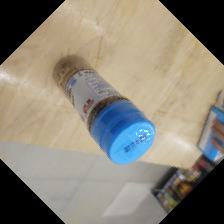TayNinh_blue: (52, 53, 158, 167)
